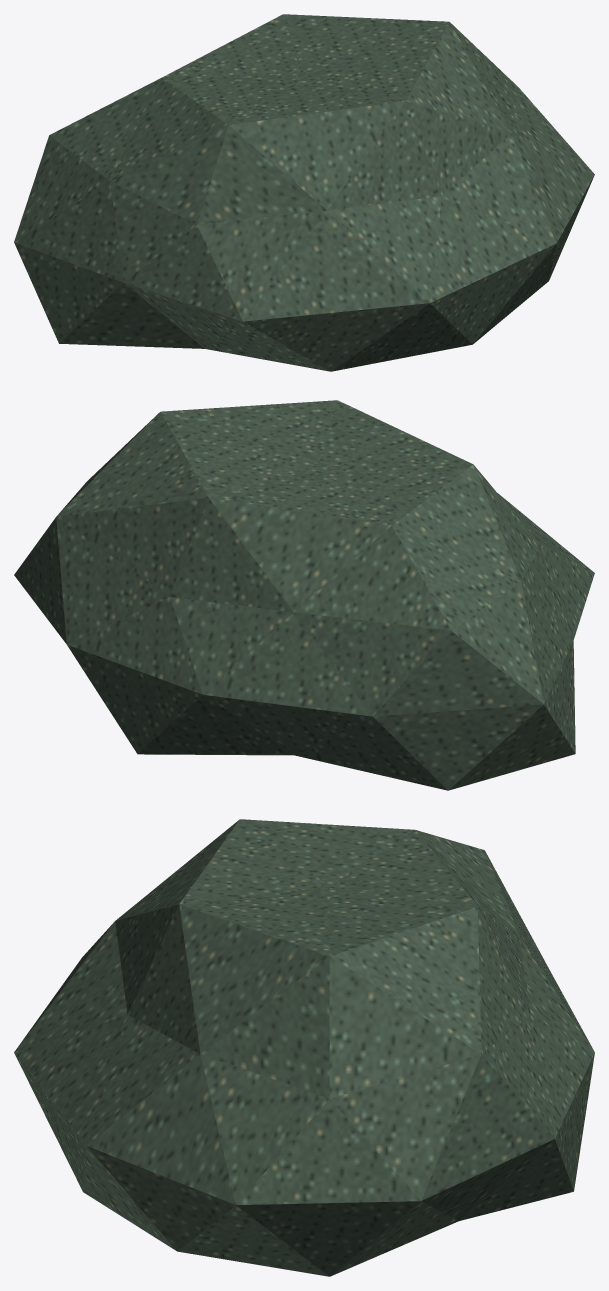
The model's file is SM_Forest_Rock_L_300x240x110.fbx.
3 renders of one model, top to bottom at view 1: azimuth 30°, elevation 25°; view 2: azimuth 150°, elevation 25°; view 3: azimuth 270°, elevation 25°, orthographic. The views are drawn at different scales.
Visible parts, largest first — view 1: SM_Forest_Rock_L_300x240x110.008; view 2: SM_Forest_Rock_L_300x240x110.008; view 3: SM_Forest_Rock_L_300x240x110.008.
Part boxes in pixels (x1,y1,x2,y2): SM_Forest_Rock_L_300x240x110.008: (14,14,594,371); SM_Forest_Rock_L_300x240x110.008: (14,400,594,790); SM_Forest_Rock_L_300x240x110.008: (14,819,594,1276).
Bounding box in the file's own units: 2.99 × 1.3 × 2.43.
